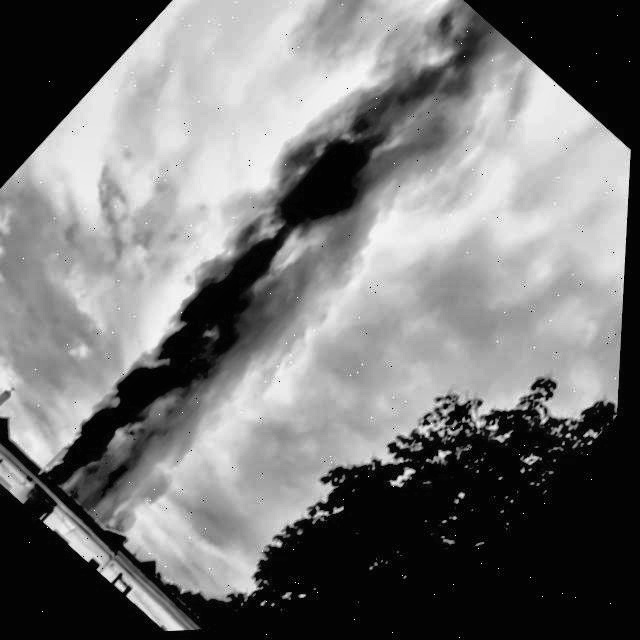Smoke: (2, 0, 553, 551)
